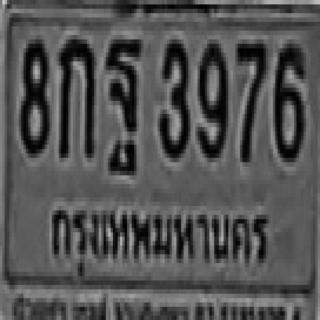A01: (56, 35, 92, 153)
A16: (105, 35, 140, 153)
N03: (158, 35, 188, 153)
N06: (273, 40, 304, 158)
N07: (235, 40, 266, 158)
N08: (19, 35, 47, 153)
N09: (197, 40, 227, 154)
P04: (46, 186, 273, 278)
